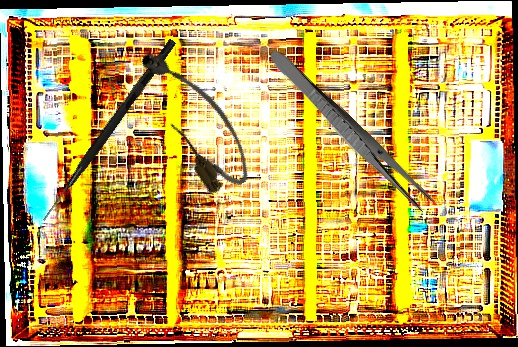Cannula: (130, 35, 262, 201)
Dressing Forceps: (262, 46, 438, 217)
Hook Surgical: (40, 36, 177, 225)
